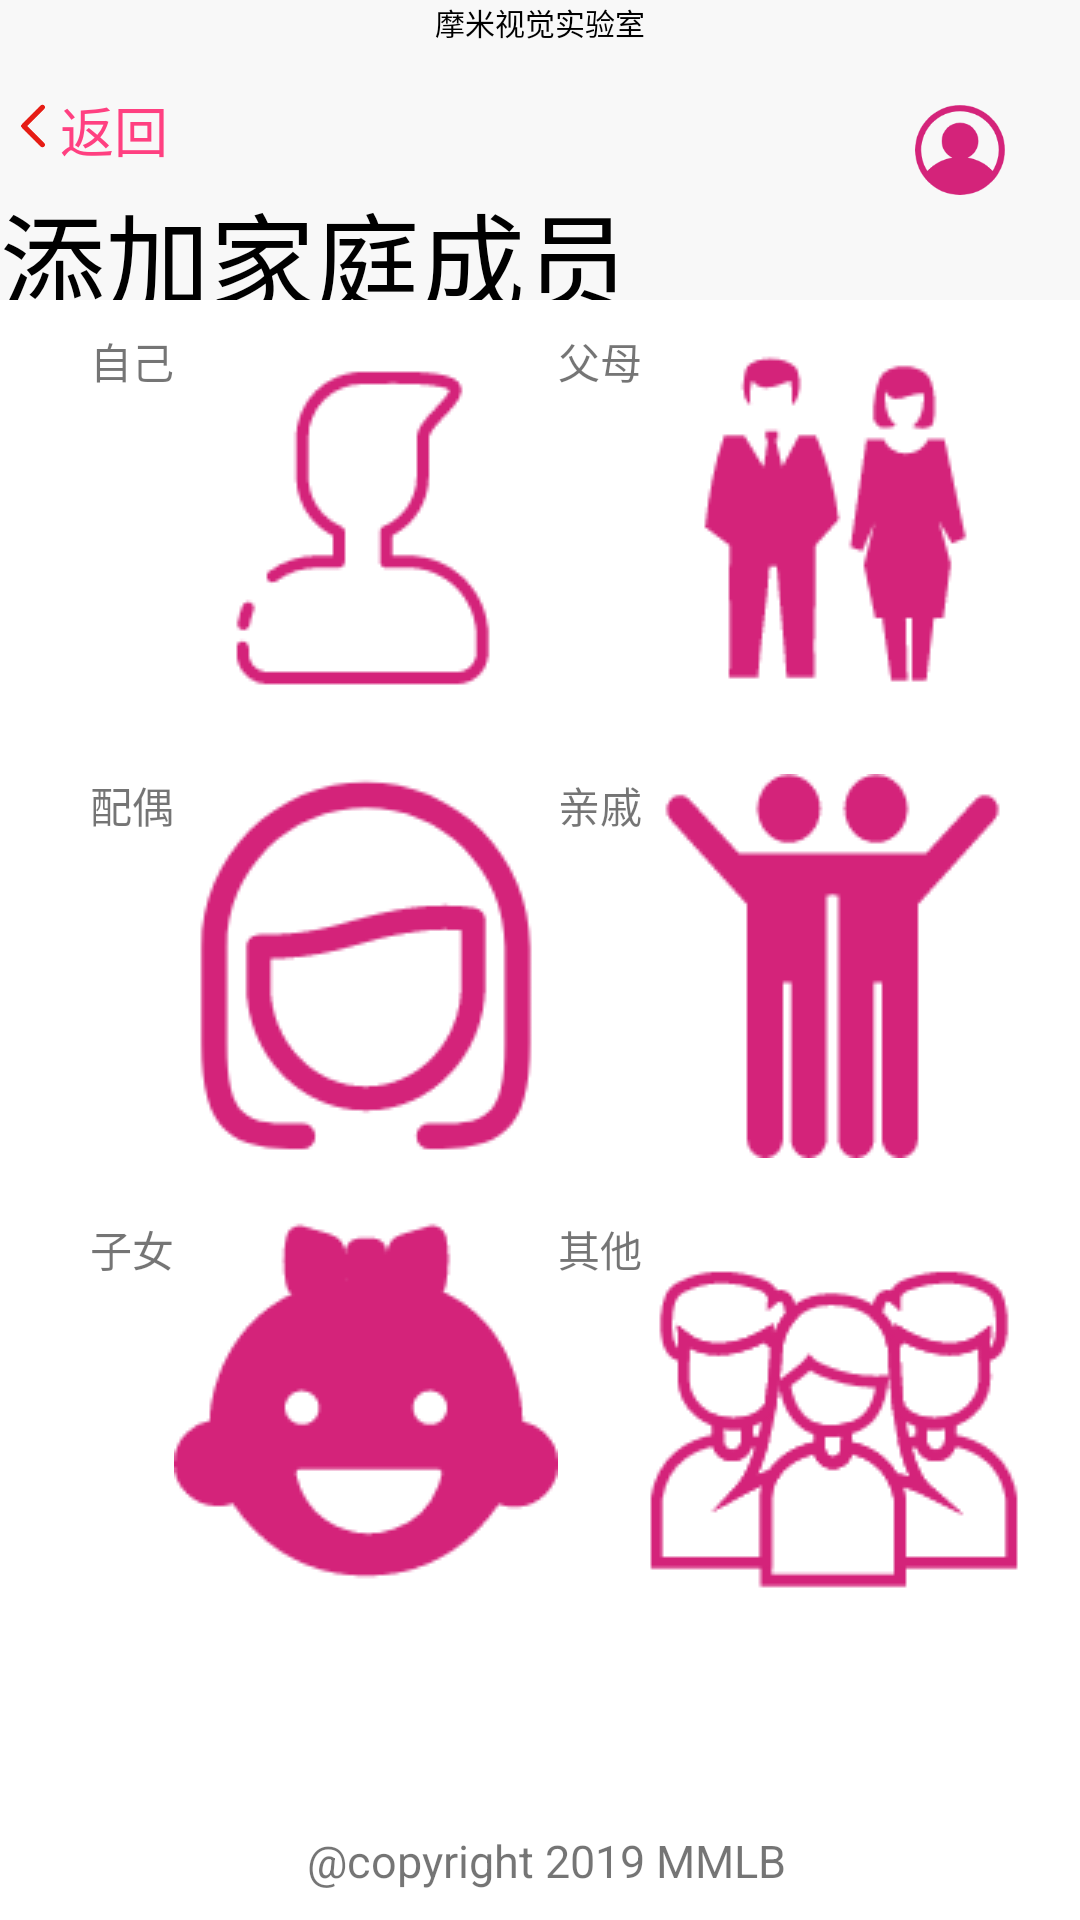

Icon bounding boxes for this 1080 × 1920 phone screenshot, format BBox(x1, y1, x2, y2):
pointleft: BBox(21, 104, 45, 148)
